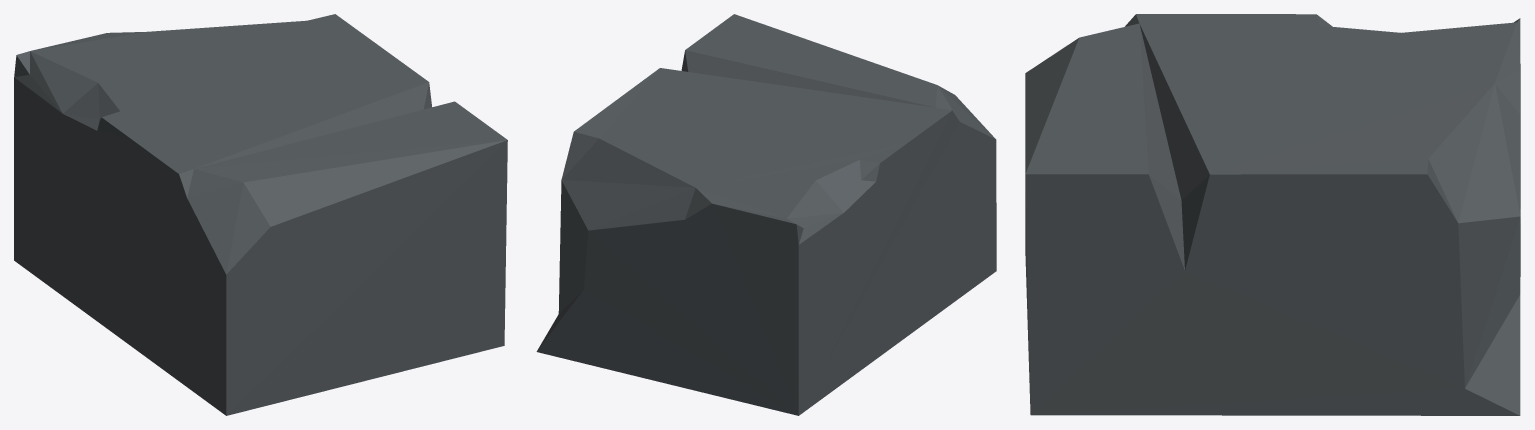
Rendered from rocks00.fbx.
3 renders of one model, left to right at view 1: azimuth 30°, elevation 25°; view 2: azimuth 150°, elevation 25°; view 3: azimuth 270°, elevation 25°, orthographic. The views are drawn at different scales.
Parts seen in each view (by area): view 1: rocks00; view 2: rocks00; view 3: rocks00.
Part boxes in pixels (box(x1,y1,x2,y2)): rocks00: box(14, 14, 507, 415); rocks00: box(536, 14, 996, 415); rocks00: box(1025, 14, 1520, 415).
Bounding box in the file's own units: 15.16 × 10.65 × 19.76.
